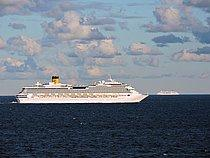Ship: (11, 71, 153, 108)
